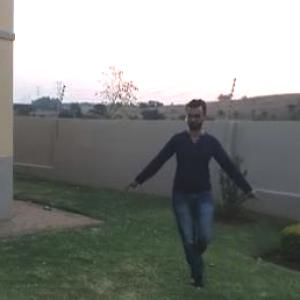land: (134, 95, 267, 299)
